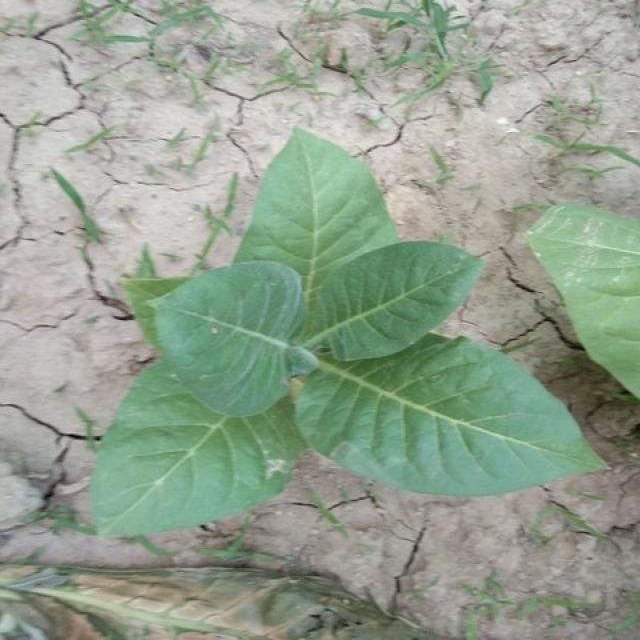crop: (78, 115, 614, 546)
